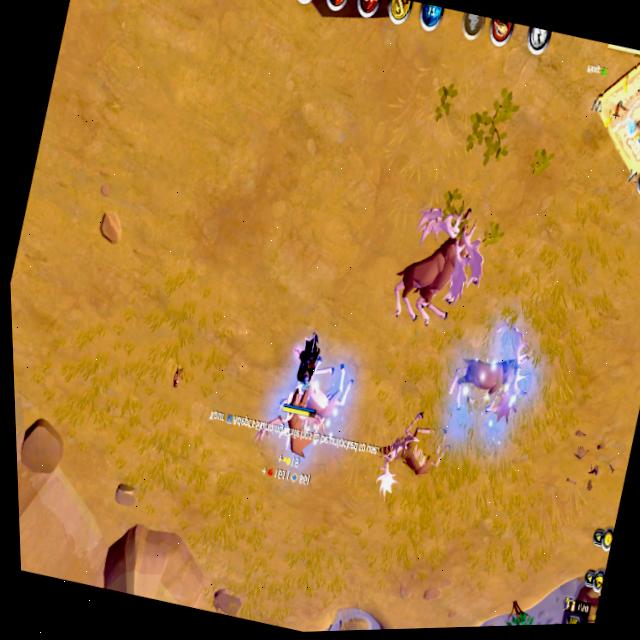hide: (499, 598, 537, 626)
mob: (379, 181, 504, 346), (438, 303, 547, 431), (362, 402, 459, 517), (266, 342, 363, 426)
ore: (252, 368, 339, 472)
red: (276, 324, 333, 423)
